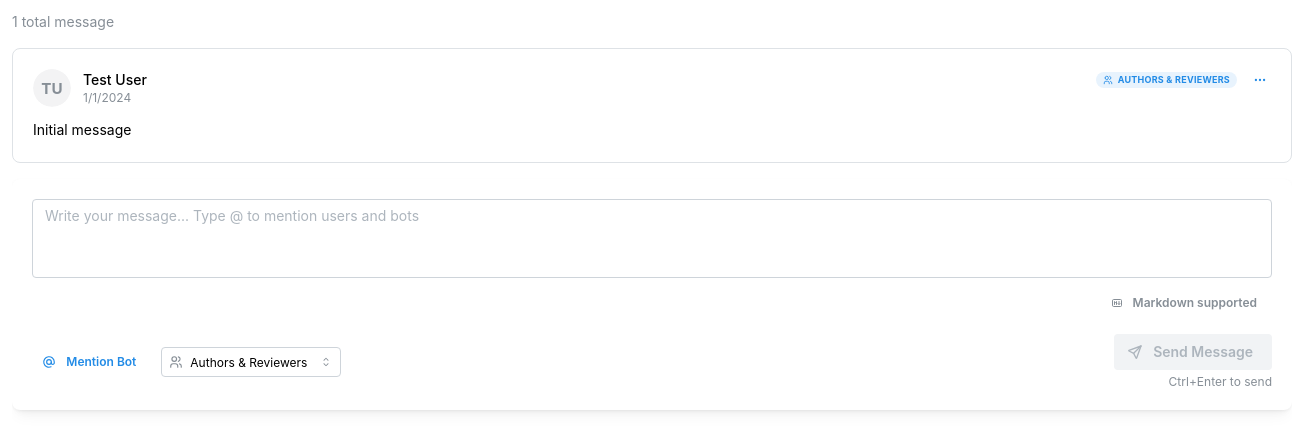
Test case: ConversationThread Real-time Message Flow › should handle SSE connection errors gracefully
Expected: the text "Initial message" is shown, [33,121,131,138]
// Type a message to enable the submit button
Type "Test message with SSE error" into the text box with placeholder "Write your message... Type @ to mention users and bots" at (652, 238), box [32,199,1272,278]
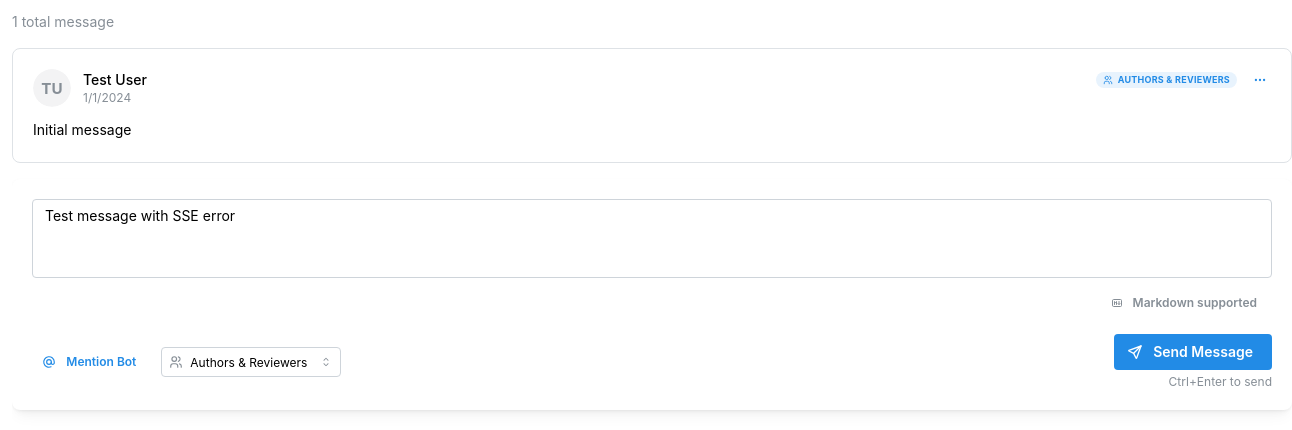
Expected: the button "Send Message" is enabled, [1114,334,1272,370]
